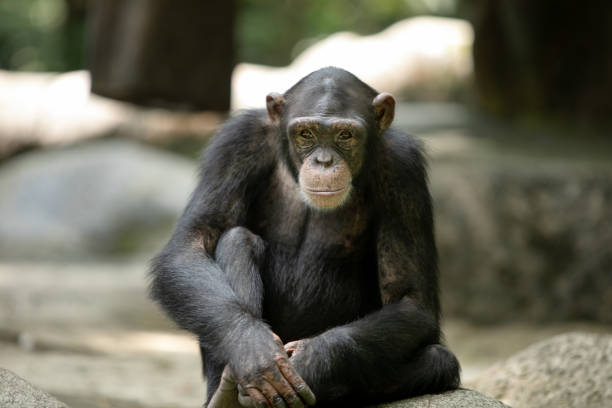chimpanzee: (233, 51, 398, 225)
